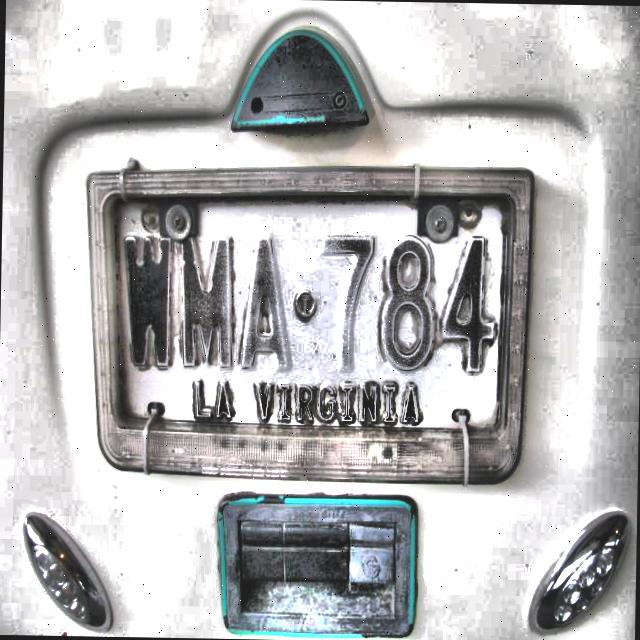4: (440, 235, 499, 375)
7: (316, 230, 376, 370)
8: (376, 233, 438, 374)
A: (237, 232, 298, 371)
M: (176, 229, 240, 370)
W: (119, 232, 175, 368)
